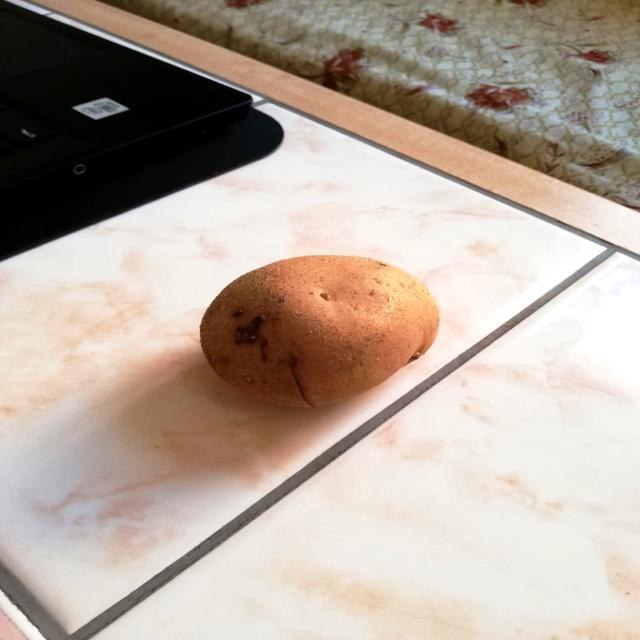potato: (194, 252, 450, 415)
